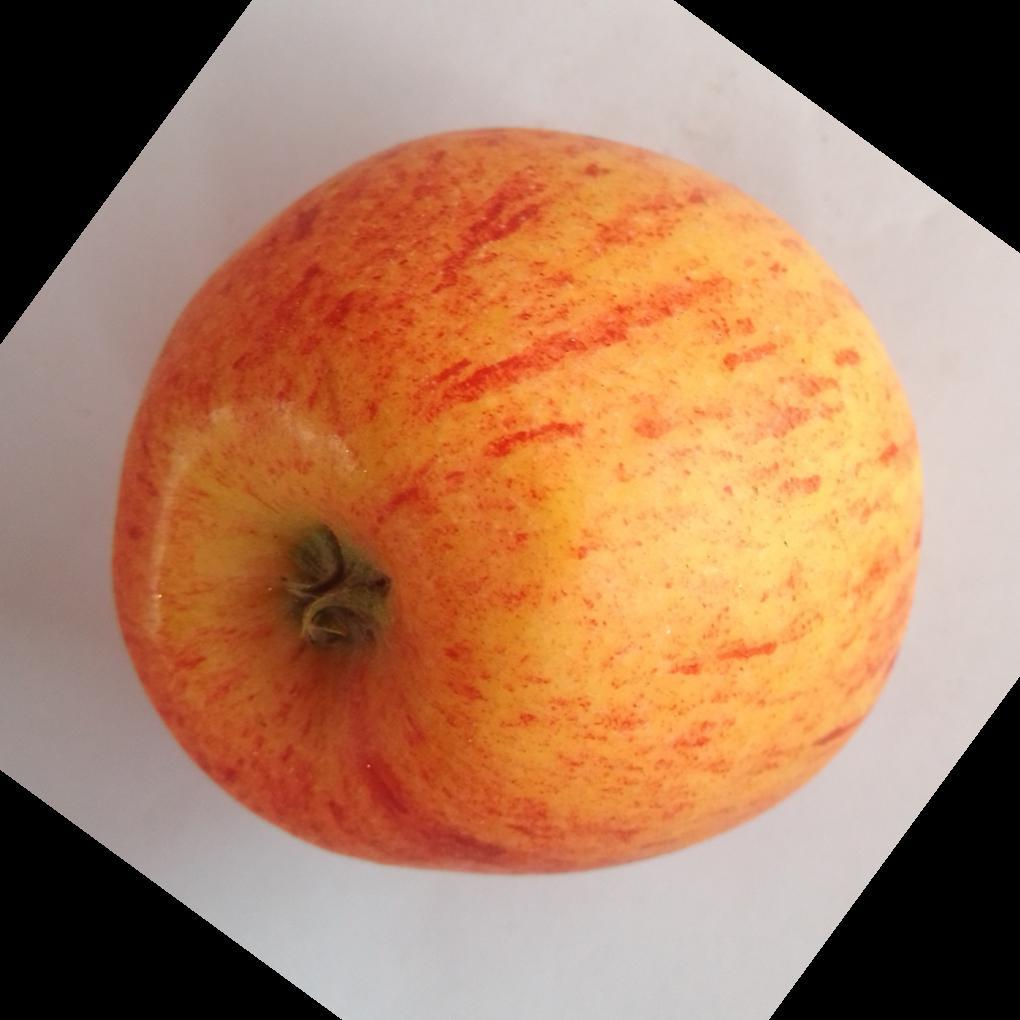FreshGuava: (109, 127, 926, 880)
